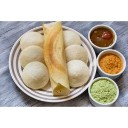idly: (21, 62, 48, 89), (67, 58, 89, 87), (21, 47, 46, 64), (65, 45, 90, 62), (62, 30, 85, 46), (19, 34, 45, 48)
